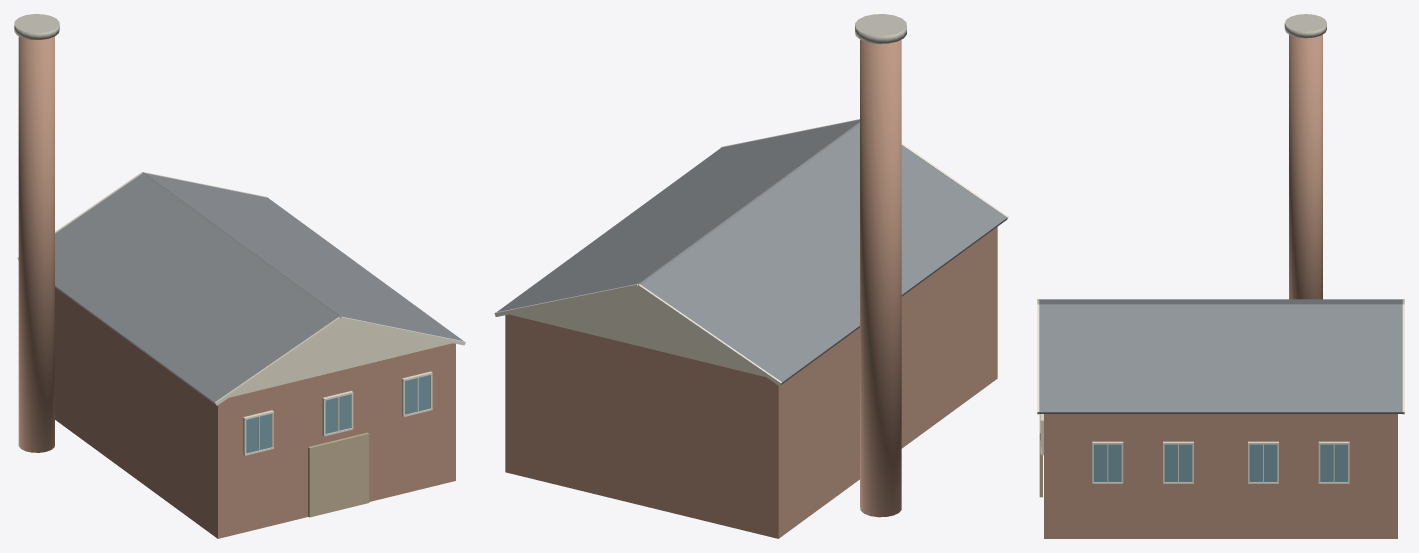
The model's file is tyne-factory_lod0.glb.
3 views of the same model, side by side, from view 1: azimuth 30°, elevation 25°; view 2: azimuth 150°, elevation 25°; view 3: azimuth 270°, elevation 25° (orthographic). The views are drawn at different scales.
Visible parts, largest first — view 1: RF_IndustrialHall, RF_Roof.001, RF_FactoryStack, RF_Roof, RF_Gable, RF_LoadingDoor, RF_StackCap, RF_Window, RF_Window.005, RF_Window.006, RF_Vergeband.001, RF_Vergeband.003; view 2: RF_IndustrialHall, RF_Roof.001, RF_FactoryStack, RF_Roof, RF_Gable.001, RF_StackCap, RF_Vergeband.002, RF_Vergeband, RF_Ridge; view 3: RF_Roof, RF_IndustrialHall, RF_FactoryStack, RF_Roof.001, RF_Window.001, RF_Window.004, RF_Window.002, RF_Window.003, RF_StackCap.
Boxes of the visible parts, x1,y1,x2,y2 form: RF_IndustrialHall: [55, 287, 455, 538]; RF_Roof.001: [55, 173, 338, 404]; RF_FactoryStack: [18, 36, 54, 452]; RF_Roof: [144, 173, 462, 340]; RF_Gable: [229, 320, 452, 397]; RF_LoadingDoor: [308, 432, 369, 517]; RF_StackCap: [14, 14, 59, 39]; RF_Window: [405, 375, 430, 414]; RF_Window.005: [246, 413, 271, 453]; RF_Window.006: [325, 394, 351, 433]; RF_Vergeband.001: [215, 317, 340, 405]; RF_Vergeband.003: [340, 316, 465, 345]; RF_IndustrialHall: [505, 227, 997, 538]; RF_Roof.001: [640, 123, 1006, 384]; RF_FactoryStack: [860, 39, 901, 517]; RF_Roof: [497, 120, 859, 311]; RF_Gable.001: [509, 288, 765, 376]; RF_StackCap: [855, 14, 906, 43]; RF_Vergeband.002: [637, 284, 781, 386]; RF_Vergeband: [494, 284, 638, 316]; RF_Ridge: [638, 121, 859, 285]; RF_Roof: [1039, 304, 1402, 413]; RF_IndustrialHall: [1044, 414, 1397, 538]; RF_FactoryStack: [1289, 34, 1322, 299]; RF_Roof.001: [1038, 299, 1402, 304]; RF_Window.001: [1094, 444, 1121, 481]; RF_Window.004: [1320, 444, 1347, 481]; RF_Window.002: [1164, 444, 1192, 481]; RF_Window.003: [1249, 444, 1277, 481]; RF_StackCap: [1284, 14, 1326, 38].
Bounding box in the file's own units: 22.95 × 30.45 × 25.98.
